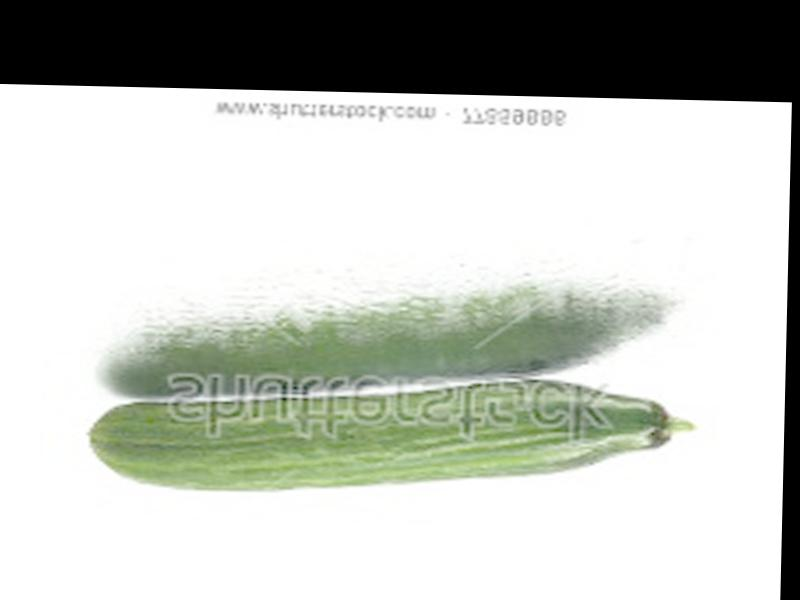Cucumber: (92, 368, 694, 504)
